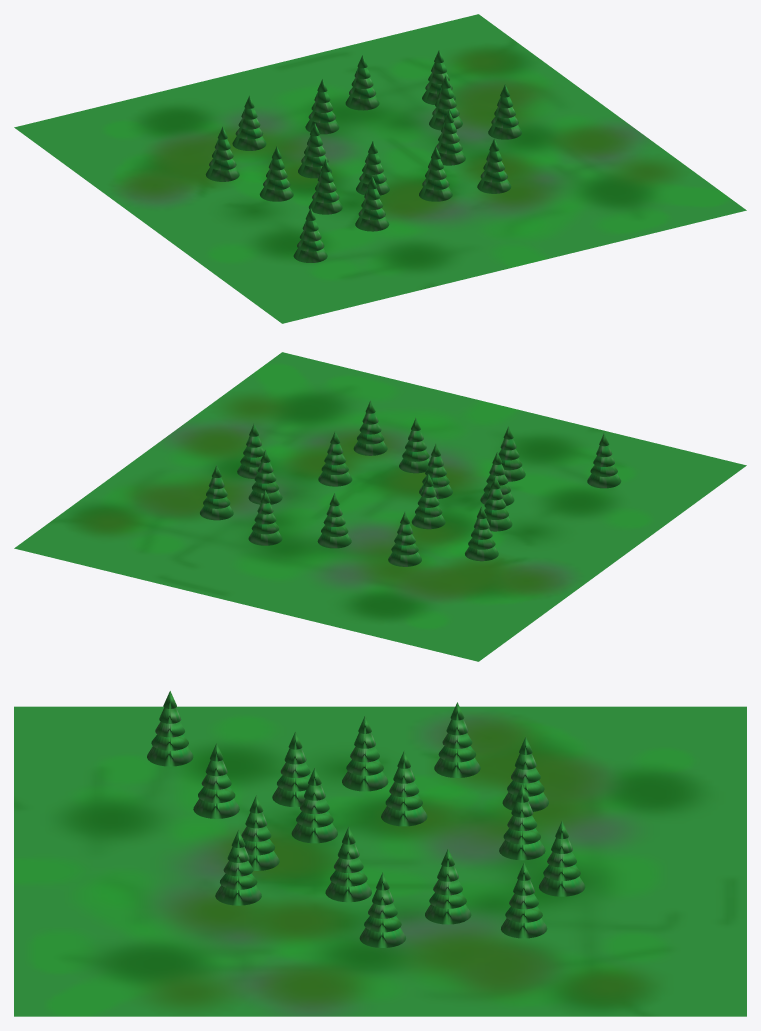
The model's file is Forest1.glb.
The picture shows the model from 3 angles, top to bottom: view 1: azimuth 30°, elevation 25°; view 2: azimuth 150°, elevation 25°; view 3: azimuth 270°, elevation 25°; orthographic projection. The views are drawn at different scales.
Parts seen in each view (by area): view 1: Object, tree1.005, tree1.003, tree1.014, tree1.008, tree1, tree1.006, tree1.009, tree1.012, tree1.013, tree1.015, tree1.004 (+5 smaller); view 2: Object, tree1.011, tree1.003, tree1.004, tree1.007, tree1.012, tree1.015, tree1.002, tree1.006, tree1.005, tree1.013, tree1.001 (+5 smaller); view 3: Object, tree1.007, tree1.004, tree1.012, tree1.002, tree1.003, tree1.008, tree1.011, tree1.015, tree1.006, tree1.001, tree1.010 (+5 smaller).
Boxes of the visible parts, <box> form: Object: <box>14,14,746,323</box>; tree1.005: <box>232,95,266,150</box>; tree1.003: <box>345,55,379,110</box>; tree1.014: <box>355,176,389,231</box>; tree1.008: <box>259,146,293,201</box>; tree1: <box>488,84,521,139</box>; tree1.006: <box>205,126,239,181</box>; tree1.009: <box>308,159,342,214</box>; tree1.012: <box>477,138,511,193</box>; tree1.013: <box>419,146,452,201</box>; tree1.015: <box>293,208,327,262</box>; tree1.004: <box>305,79,339,134</box>; Object: <box>14,352,746,661</box>; tree1.011: <box>318,431,352,486</box>; tree1.003: <box>248,490,282,545</box>; tree1.004: <box>317,493,351,548</box>; tree1.007: <box>411,474,445,529</box>; tree1.012: <box>353,400,387,455</box>; tree1.015: <box>587,433,621,488</box>; tree1.002: <box>200,465,233,520</box>; tree1.006: <box>465,505,498,561</box>; tree1.005: <box>388,511,421,566</box>; tree1.013: <box>399,418,429,473</box>; tree1.001: <box>248,449,282,504</box>; Object: <box>14,706,746,1016</box>; tree1.007: <box>381,750,427,826</box>; tree1.004: <box>499,784,545,860</box>; tree1.012: <box>215,830,261,905</box>; tree1.002: <box>501,863,547,938</box>; tree1.003: <box>539,821,585,896</box>; tree1.008: <box>342,715,388,791</box>; tree1.011: <box>325,826,371,902</box>; tree1.015: <box>147,691,193,766</box>; tree1.006: <box>434,702,480,777</box>; tree1.001: <box>425,849,471,924</box>; tree1.010: <box>291,767,337,843</box>.
Size of the model in its own units: 42.46 by 4.69 by 42.46.
1 material, 1 textured.
